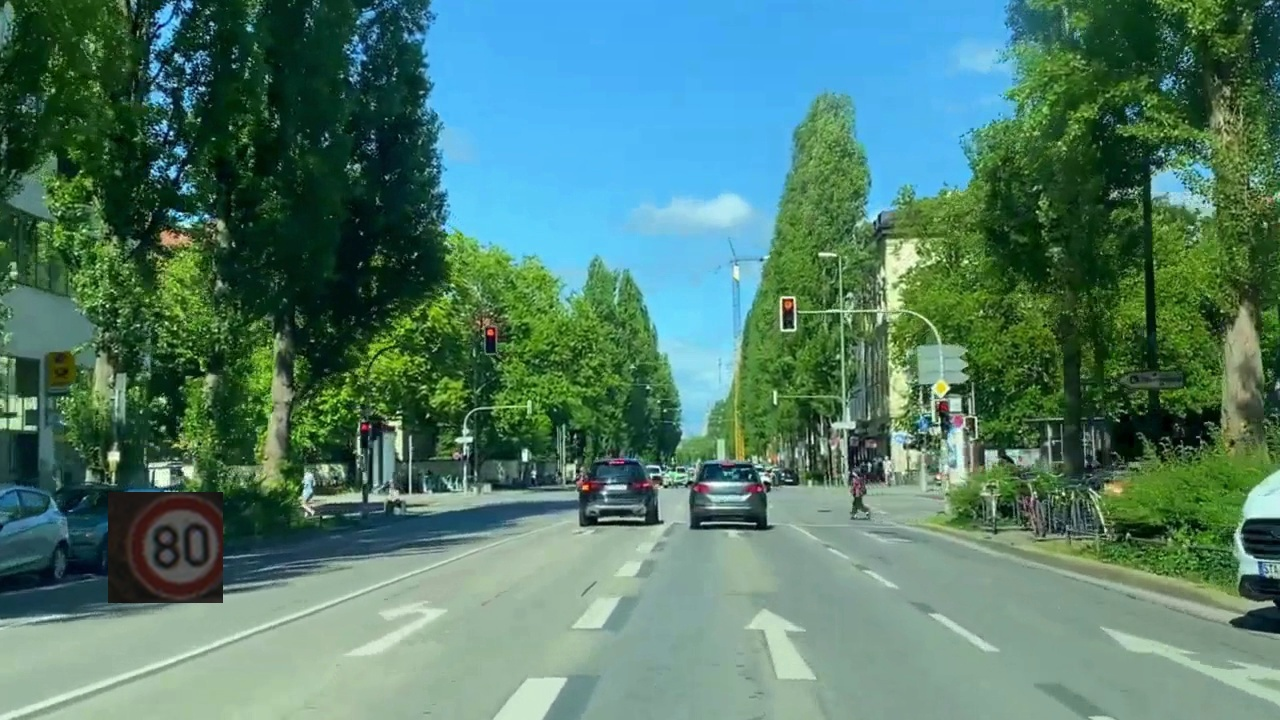Speed 80: (108, 492, 223, 603)
